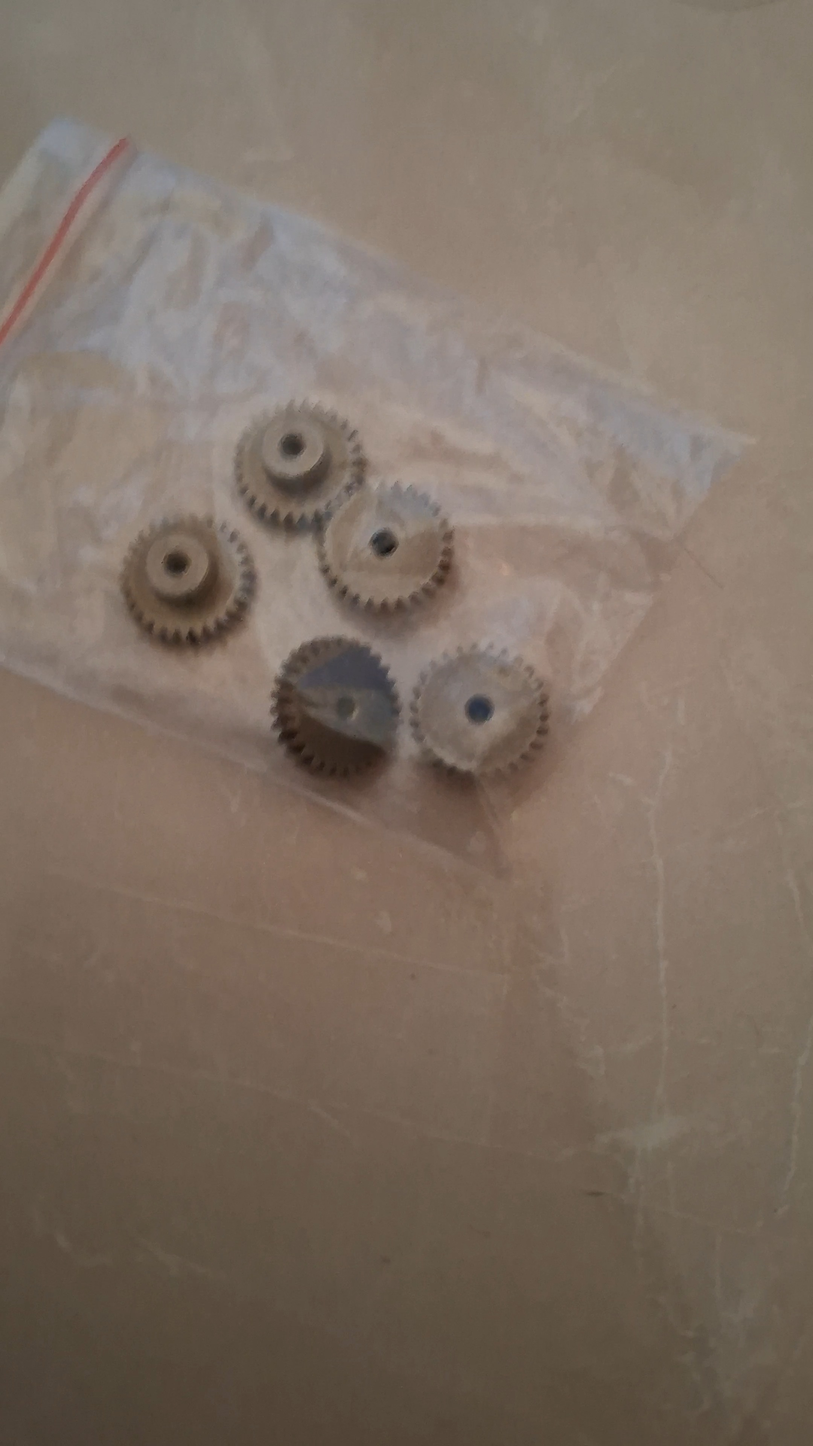spur gear: (272, 637, 399, 776), (411, 647, 548, 775), (318, 483, 452, 611), (121, 516, 254, 643), (235, 403, 365, 526)
